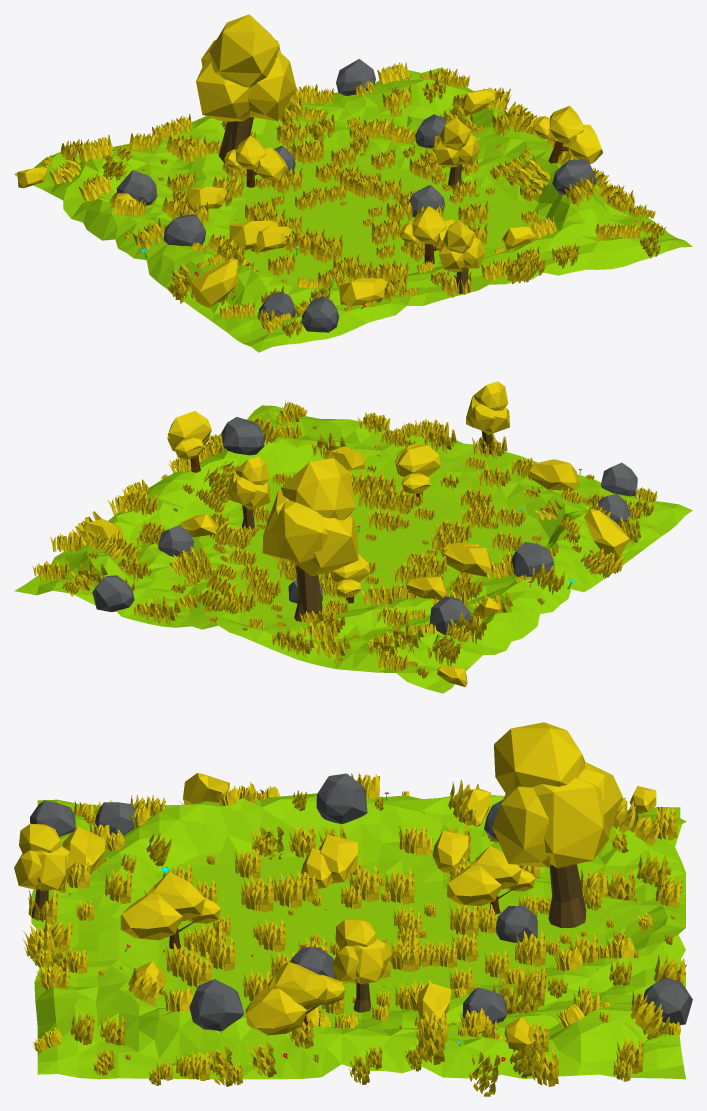
The model's file is Example Terrain #2.fbx.
3 views of the same model, one above another, from view 1: azimuth 30°, elevation 25°; view 2: azimuth 150°, elevation 25°; view 3: azimuth 270°, elevation 25° (orthographic). The views are drawn at different scales.
Parts seen in each view (by area): view 1: Example Terrain #2; view 2: Example Terrain #2; view 3: Example Terrain #2.
Part boxes in pixels (x1,y1,x2,y2): Example Terrain #2: [14, 14, 692, 352]; Example Terrain #2: [14, 381, 692, 693]; Example Terrain #2: [14, 722, 692, 1096].
Bounding box in the file's own units: 2629 × 891 × 2594.
